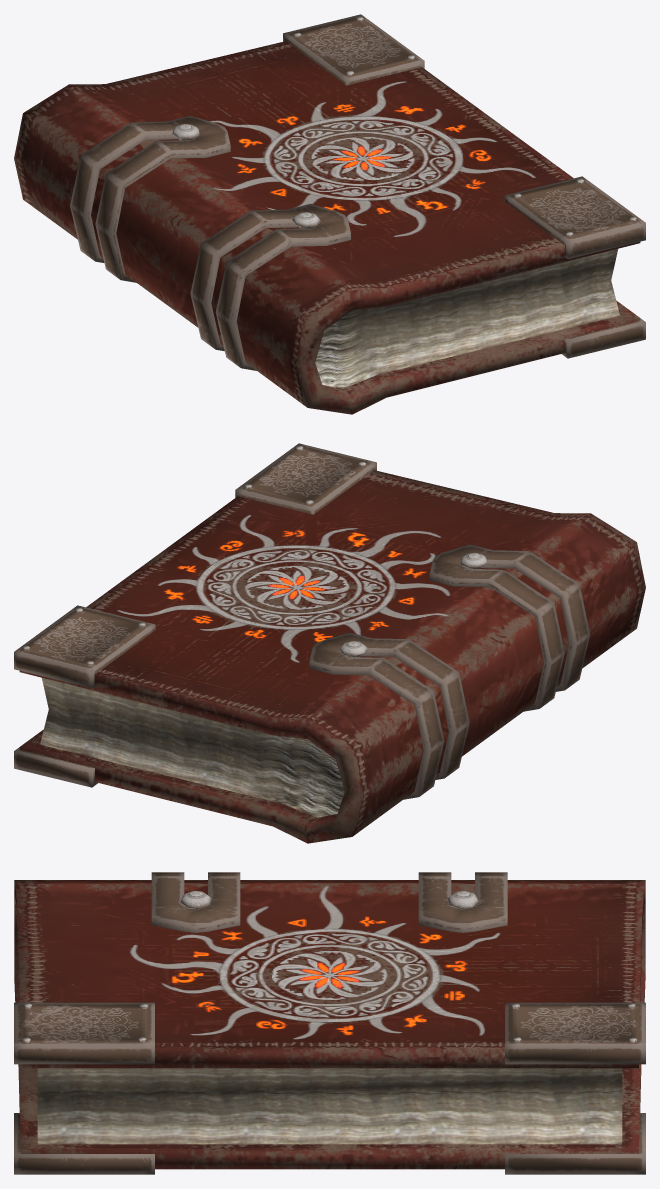
File: magic_book.glb
3 renders of one model, top to bottom at view 1: azimuth 30°, elevation 25°; view 2: azimuth 150°, elevation 25°; view 3: azimuth 270°, elevation 25°, orthographic. The views are drawn at different scales.
Visible parts, largest first — view 1: Object_2; view 2: Object_2; view 3: Object_2.
Part boxes in pixels (x1,y1,x2,y2): Object_2: (14, 14, 645, 414); Object_2: (14, 443, 645, 843); Object_2: (14, 872, 645, 1174).
Bounding box in the file's own units: 31.14 × 11.74 × 43.47.
1 material, 1 textured.
